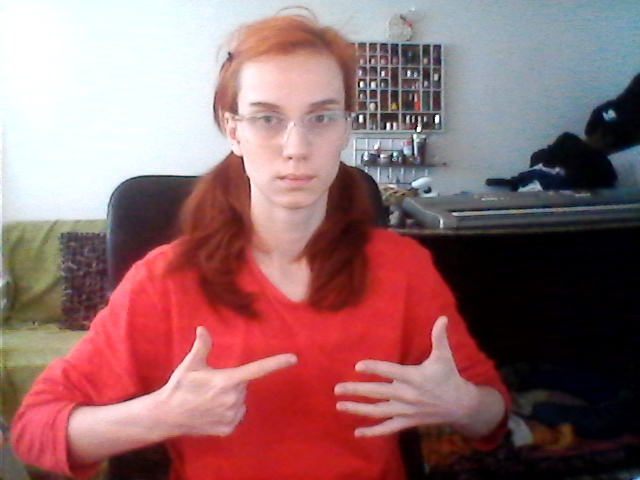sedem: (160, 313, 468, 441)
